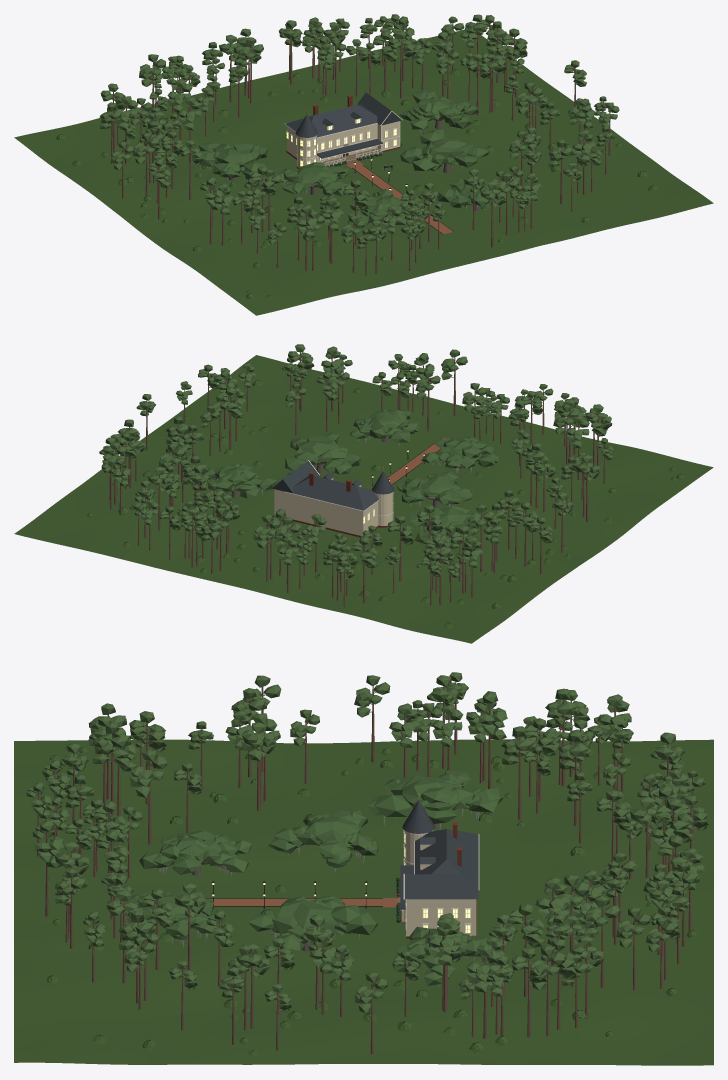
File: clubhouse_exterior.glb
3 renders of one model, top to bottom at view 1: azimuth 30°, elevation 25°; view 2: azimuth 150°, elevation 25°; view 3: azimuth 270°, elevation 25°, orthographic. The views are drawn at different scales.
Visible parts, largest first — view 1: Grounds-col, Clubhouse, Oak2_Canopy, Oak3_Canopy, Oak4_Canopy, Oak1_Canopy, Oak5_Canopy, Oak6_Canopy, BrickWalk-col, Pine119-col, Pine127-col, Pine43-col (+13 smaller); view 2: Grounds-col, Clubhouse, Oak2_Canopy, Oak5_Canopy, Oak1_Canopy, Oak6_Canopy, Oak4_Canopy, Oak3_Canopy, Pine29-col, Pine62-col, Pine32-col, Pine64-col (+9 smaller); view 3: Grounds-col, Clubhouse, Oak3_Canopy, Oak2_Canopy, Oak1_Canopy, Oak5_Canopy, Oak4_Canopy, Oak6_Canopy, BrickWalk-col, Pine37-col, Pine32-col, Pine122-col (+59 smaller).
Part boxes in pixels (x1=…): Grounds-col: x1=14, y1=29, x2=713, y2=315; Clubhouse: x1=284, y1=92, x2=402, y2=168; Oak2_Canopy: x1=400, y1=129, x2=490, y2=172; Oak3_Canopy: x1=198, y1=142, x2=267, y2=180; Oak4_Canopy: x1=399, y1=89, x2=479, y2=133; Oak1_Canopy: x1=274, y1=162, x2=349, y2=196; Oak5_Canopy: x1=348, y1=189, x2=411, y2=225; Oak6_Canopy: x1=438, y1=179, x2=506, y2=209; BrickWalk-col: x1=346, y1=161, x2=453, y2=234; Pine119-col: x1=388, y1=31, x2=415, y2=98; Pine127-col: x1=133, y1=133, x2=159, y2=195; Pine43-col: x1=320, y1=197, x2=343, y2=264; Grounds-col: x1=14, y1=355, x2=713, y2=643; Clubhouse: x1=272, y1=460, x2=394, y2=537; Oak2_Canopy: x1=285, y1=432, x2=360, y2=476; Oak5_Canopy: x1=421, y1=436, x2=498, y2=473; Oak1_Canopy: x1=396, y1=471, x2=472, y2=507; Oak6_Canopy: x1=349, y1=409, x2=418, y2=446; Oak4_Canopy: x1=202, y1=463, x2=277, y2=498; Oak3_Canopy: x1=410, y1=506, x2=484, y2=545; Pine29-col: x1=253, y1=515, x2=279, y2=581; Pine62-col: x1=351, y1=536, x2=377, y2=603; Pine32-col: x1=467, y1=504, x2=494, y2=571; Pine64-col: x1=388, y1=515, x2=413, y2=581; Grounds-col: x1=14, y1=739, x2=713, y2=1065; Clubhouse: x1=397, y1=794, x2=479, y2=938; Oak3_Canopy: x1=367, y1=770, x2=503, y2=829; Oak2_Canopy: x1=248, y1=895, x2=378, y2=951; Oak1_Canopy: x1=268, y1=810, x2=378, y2=871; Oak5_Canopy: x1=139, y1=830, x2=251, y2=876; Oak4_Canopy: x1=391, y1=926, x2=496, y2=987; Oak6_Canopy: x1=125, y1=890, x2=218, y2=947; BrickWalk-col: x1=122, y1=898, x2=397, y2=907; Pine37-col: x1=130, y1=750, x2=167, y2=844; Pine32-col: x1=474, y1=691, x2=507, y2=788; Pine122-col: x1=466, y1=945, x2=501, y2=1038.
Size of what is drawn, in the model's own units: 180 by 26.04 by 165.
Materials: 21 (1 with a texture image).
